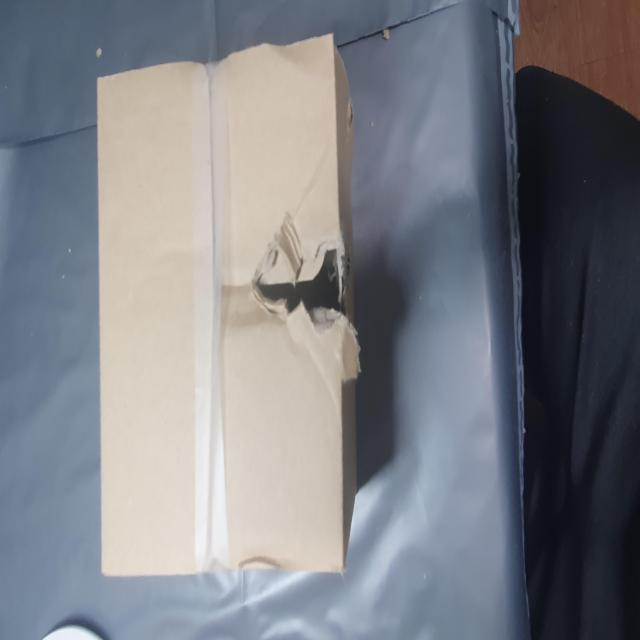damaged: (170, 447, 225, 613)
